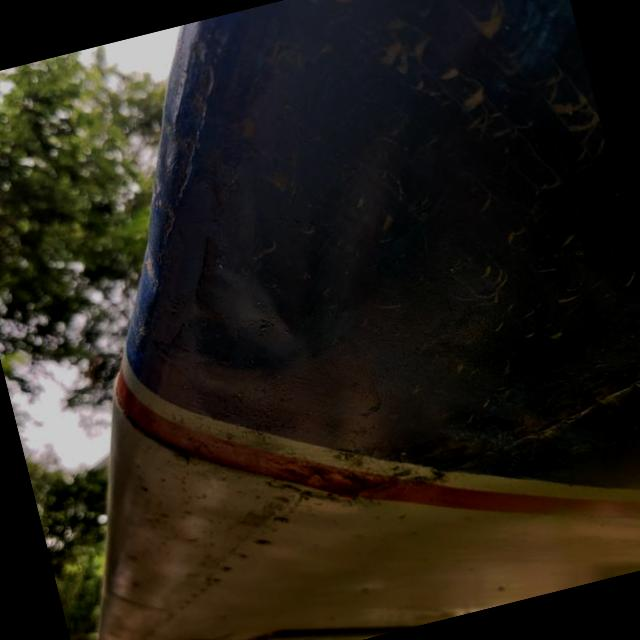dent: (142, 203, 336, 422)
